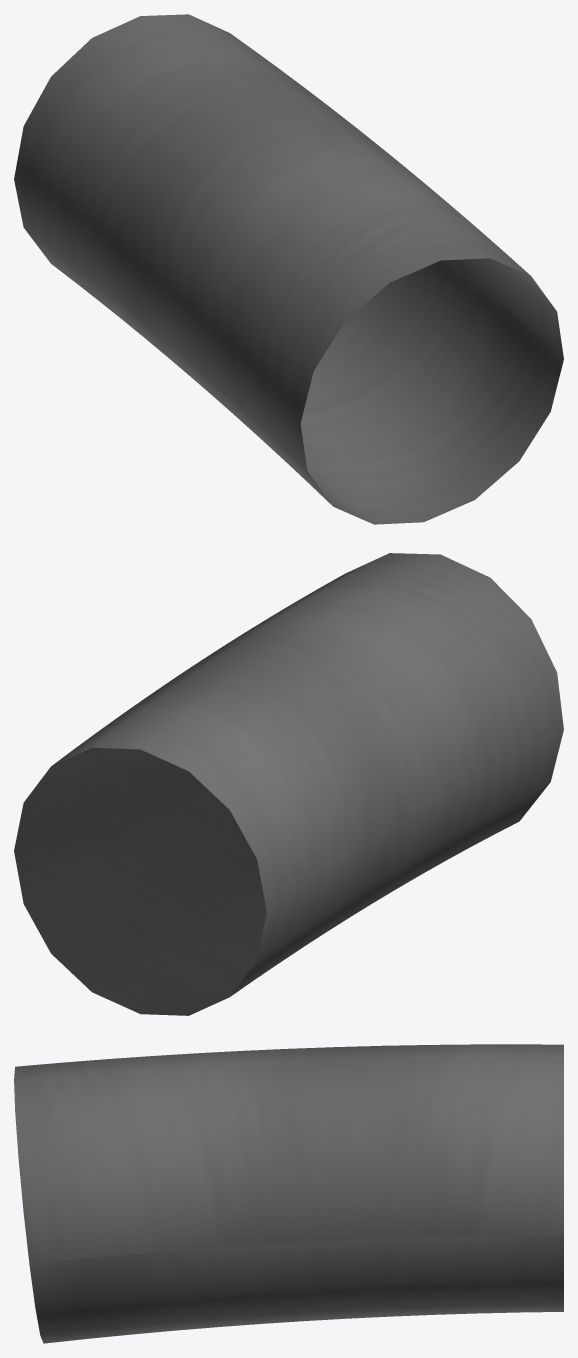
File: mastarmcurve_6x2_c7.obj
3 views of the same model, one above another, from view 1: azimuth 30°, elevation 25°; view 2: azimuth 150°, elevation 25°; view 3: azimuth 270°, elevation 25° (orthographic). The views are drawn at different scales.
Parts seen in each view (by area): view 1: mastarm_6x2_c7; view 2: mastarm_6x2_c7; view 3: mastarm_6x2_c7.
Part boxes in pixels (x1=…): mastarm_6x2_c7: x1=14, y1=14, x2=563, y2=524; mastarm_6x2_c7: x1=14, y1=553, x2=563, y2=1015; mastarm_6x2_c7: x1=14, y1=1044, x2=563, y2=1343.
Size of the model in its own units: 0.5208 by 0.5649 by 1.03.
